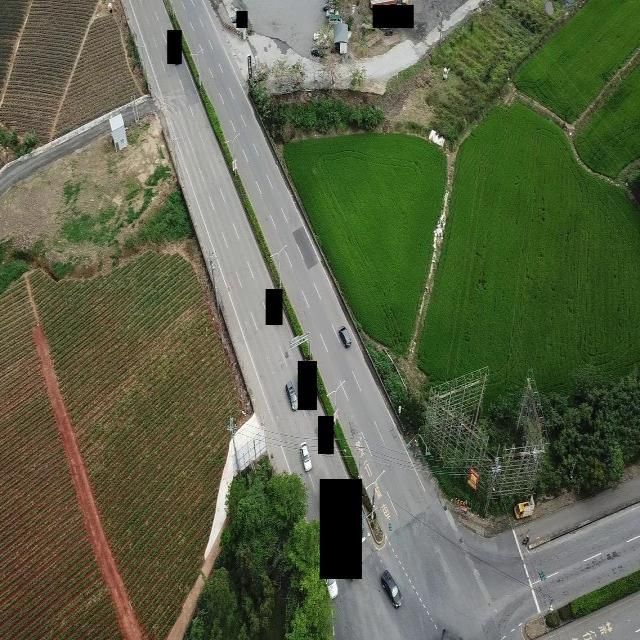car: (380, 570, 402, 607), (285, 380, 298, 411), (300, 441, 312, 472), (322, 577, 338, 598), (339, 325, 351, 347)
